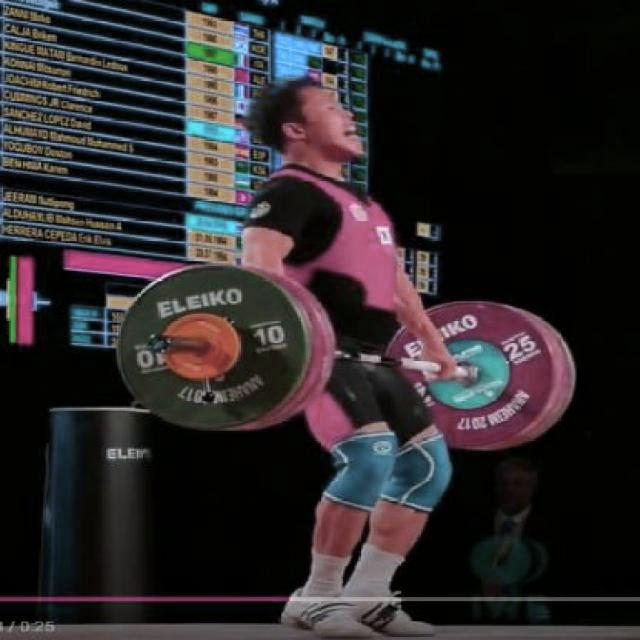barbell: (111, 252, 342, 444)
